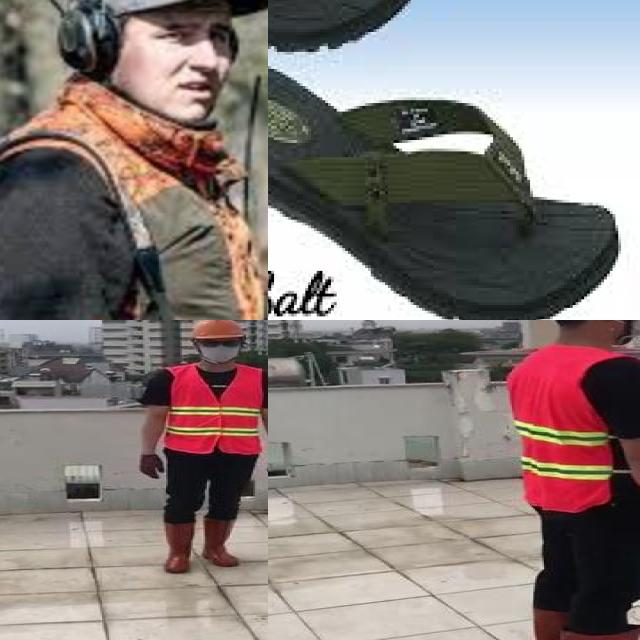Ear-protection: (46, 0, 259, 140)
No_Glasses: (141, 0, 237, 60)
Sandals: (268, 0, 640, 320)
boots: (528, 604, 627, 640), (200, 515, 240, 567), (162, 519, 196, 575)
face_mask: (197, 336, 243, 362)
glasses: (196, 337, 242, 349)
hand_glove: (138, 455, 166, 478)
head_helmet: (187, 320, 247, 340)
person: (495, 320, 640, 640), (131, 320, 268, 579)
vest: (508, 344, 633, 514), (164, 365, 264, 456)
